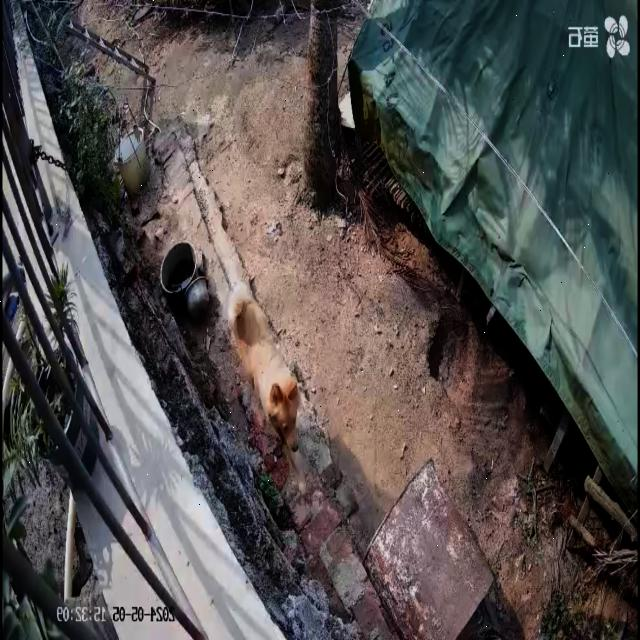dog: (229, 282, 303, 454)
